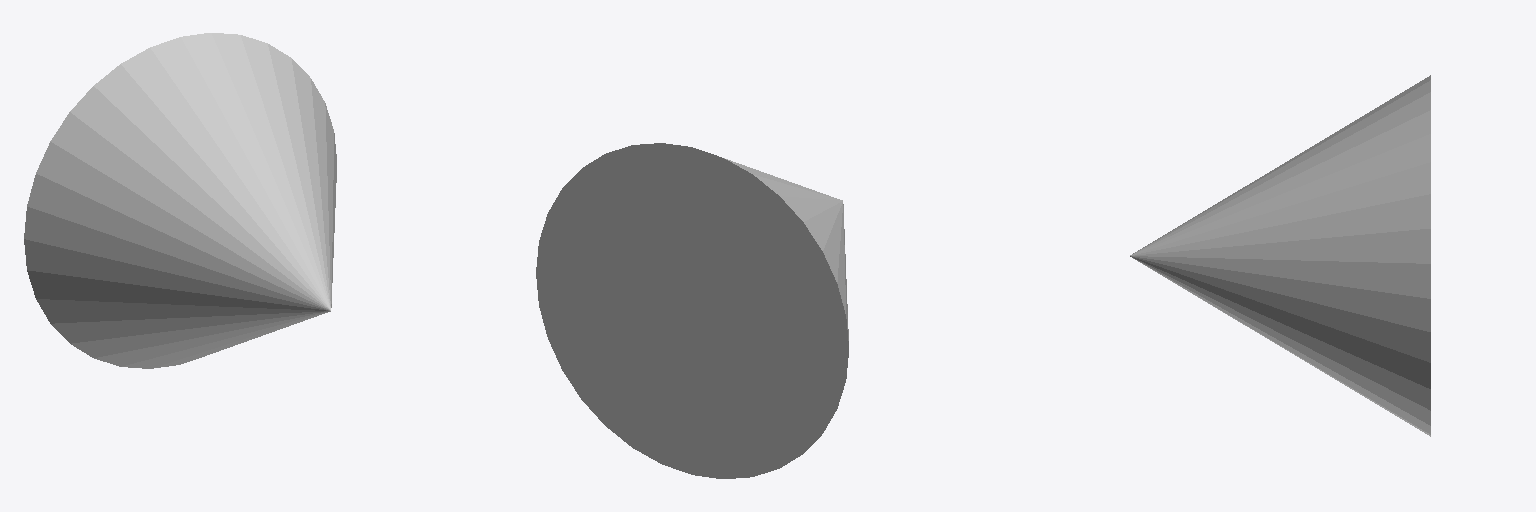
Rendered from HEADLIGHT_AREA.obj.
3 renders of one model, left to right at view 1: azimuth 30°, elevation 25°; view 2: azimuth 150°, elevation 25°; view 3: azimuth 270°, elevation 25°, orthographic.
Visible parts, largest first — view 1: Cone.001; view 2: Cone.001; view 3: Cone.001.
Part boxes in pixels (left/top/right/bottom): Cone.001: left=24, top=33, right=336, bottom=368; Cone.001: left=536, top=143, right=848, bottom=478; Cone.001: left=1130, top=75, right=1430, bottom=436.
Bounding box in the file's own units: 48 × 48 × 40.